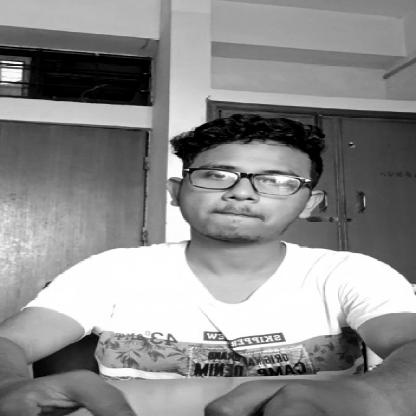Normal: (190, 130, 308, 246)
